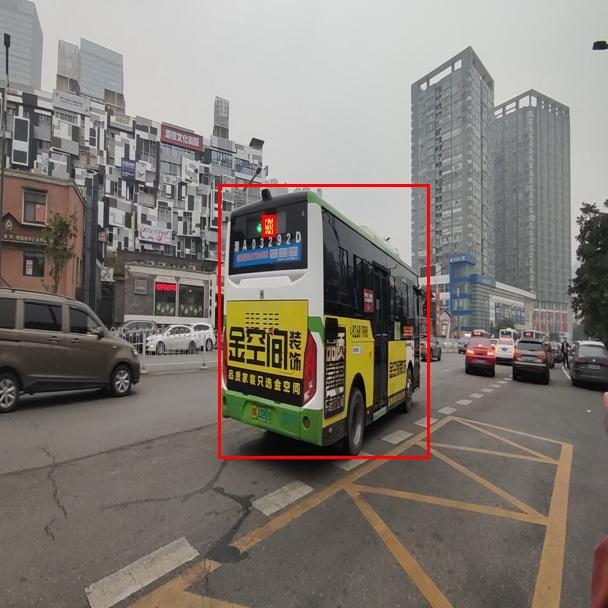bus: (218, 184, 429, 458)
screen: (262, 215, 275, 236)
